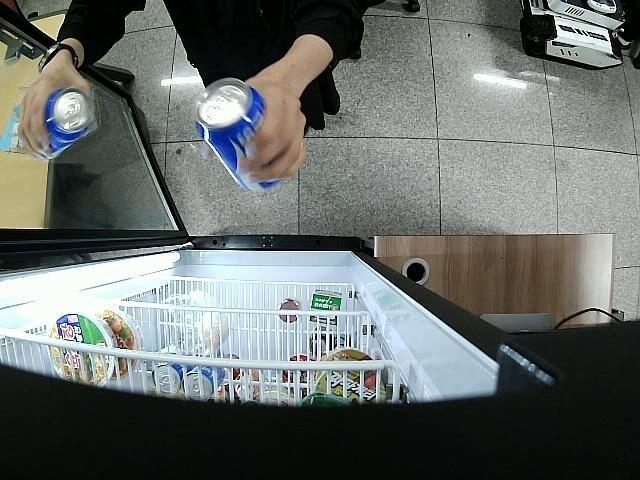13_pocariSweat: (193, 78, 284, 194), (46, 88, 95, 152)
